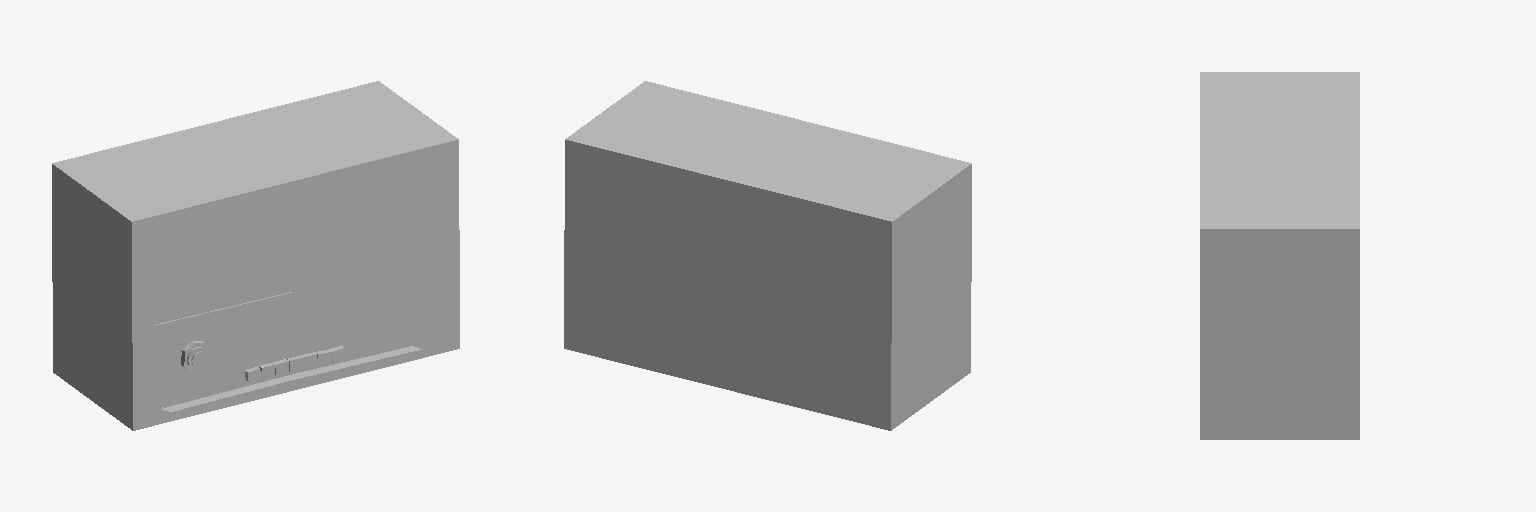
Rendered from RADIO.obj.
The picture shows the model from 3 angles: view 1: azimuth 30°, elevation 25°; view 2: azimuth 150°, elevation 25°; view 3: azimuth 270°, elevation 25°; orthographic projection.
Visible parts, largest first — view 1: Würfel; view 2: Würfel; view 3: Würfel.
Part boxes in pixels (left/top/right/bottom): Würfel: left=52, top=81, right=459, bottom=430; Würfel: left=564, top=81, right=971, bottom=430; Würfel: left=1200, top=72, right=1359, bottom=439.
Bounding box in the file's own units: 2.01 × 1.24 × 0.8467.